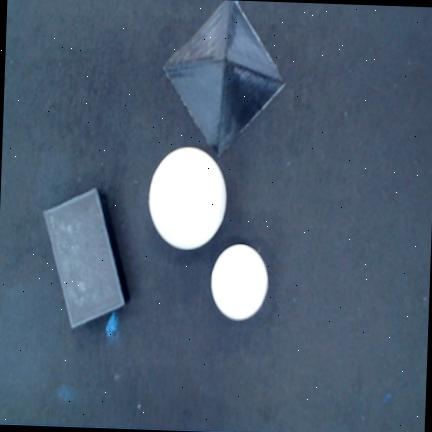Esfera: (149, 147, 226, 249), (211, 244, 268, 320)
Paralelepipedo: (43, 188, 131, 329)
Piramide: (164, 0, 287, 156)
